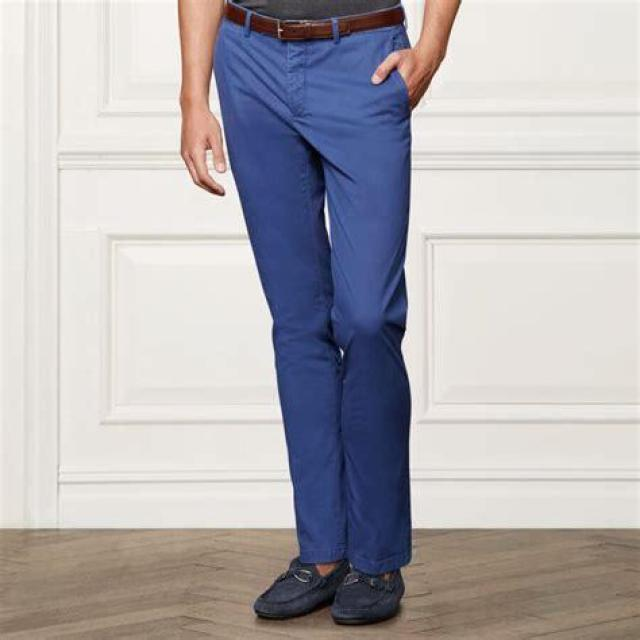pants: (210, 0, 412, 578)
